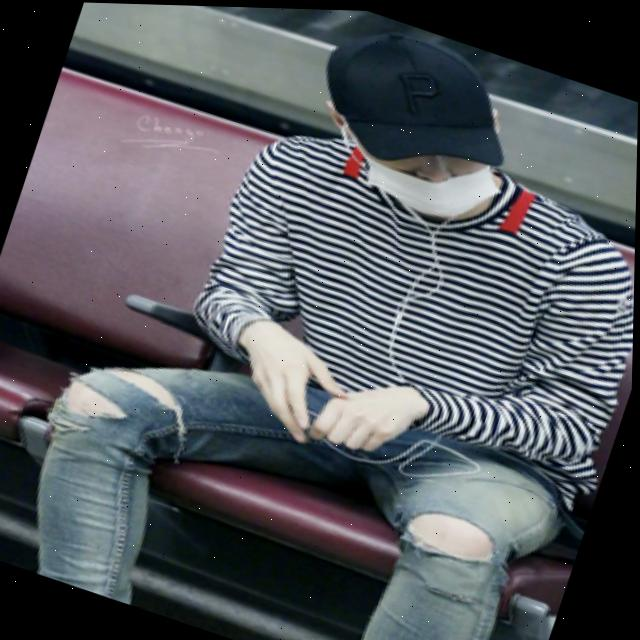Mask: (298, 102, 509, 235)
